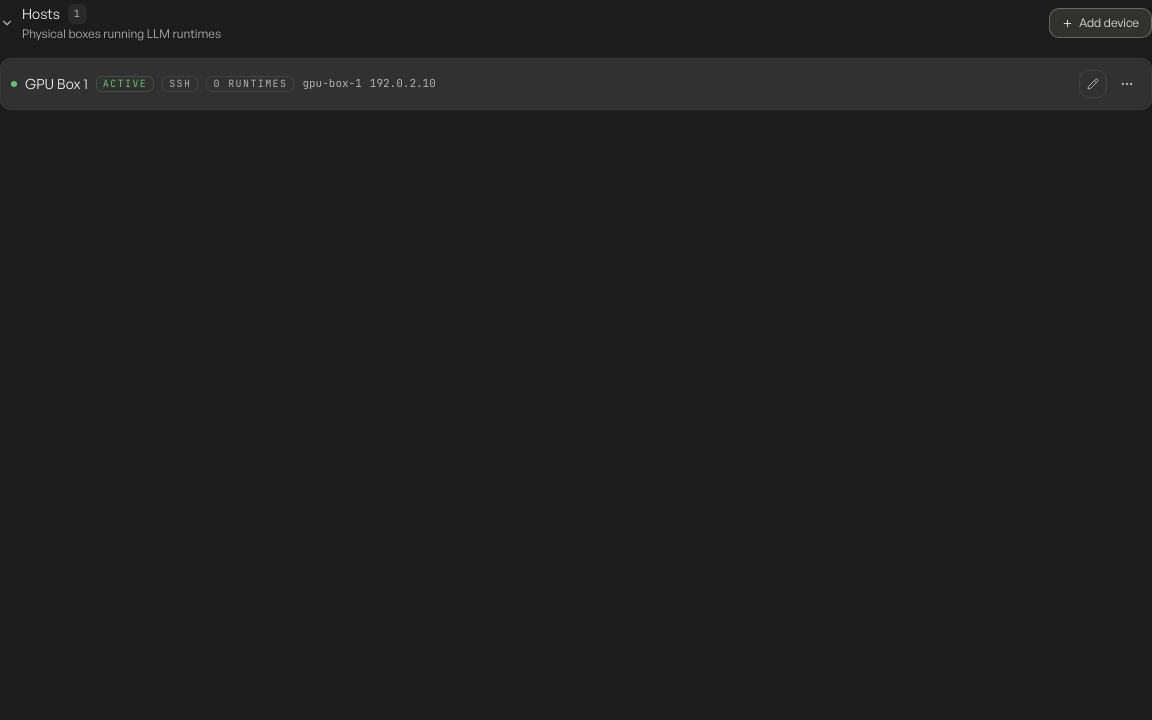
HostsSection › routes: password → onboarding dialog
This screenshot has width=1152, height=720.
What coordinates should you click on to do the following:
click the button "Add device"
I would click on:
 (1100, 23)
Its box is [1049,8,1151,38].
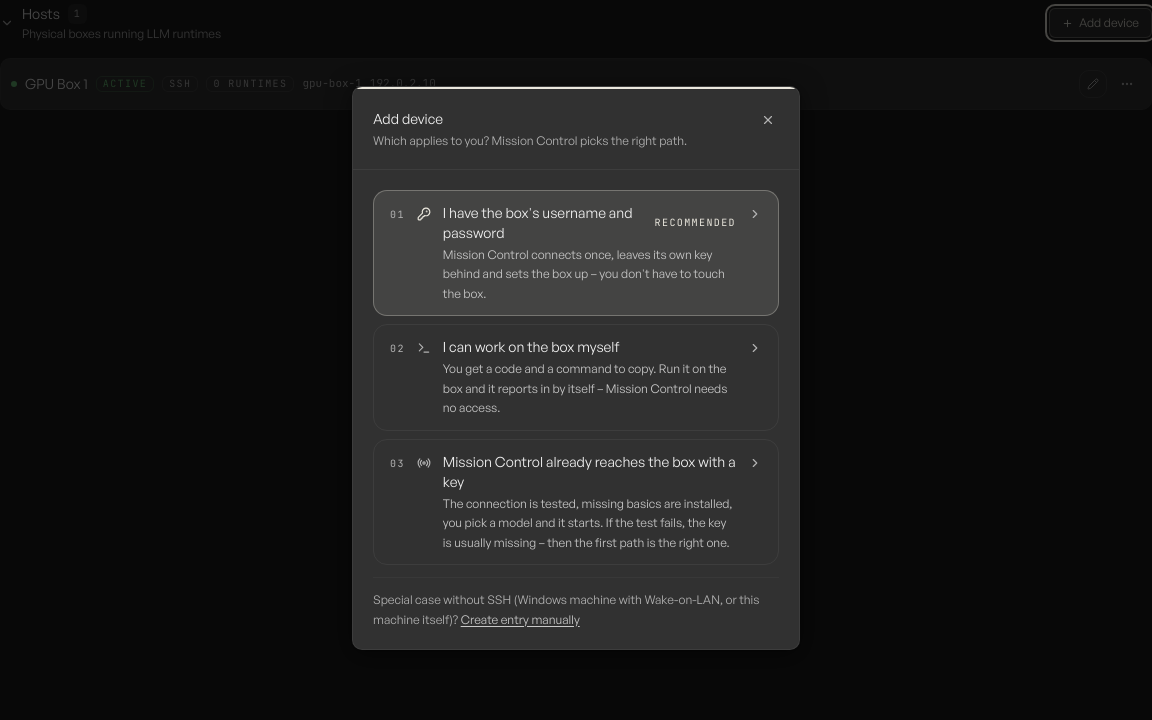
What coordinates should you click on to do the following:
click the button with test id "add-device-onboard"
I would click on:
 (576, 253)
Its box is [373,190,779,316].
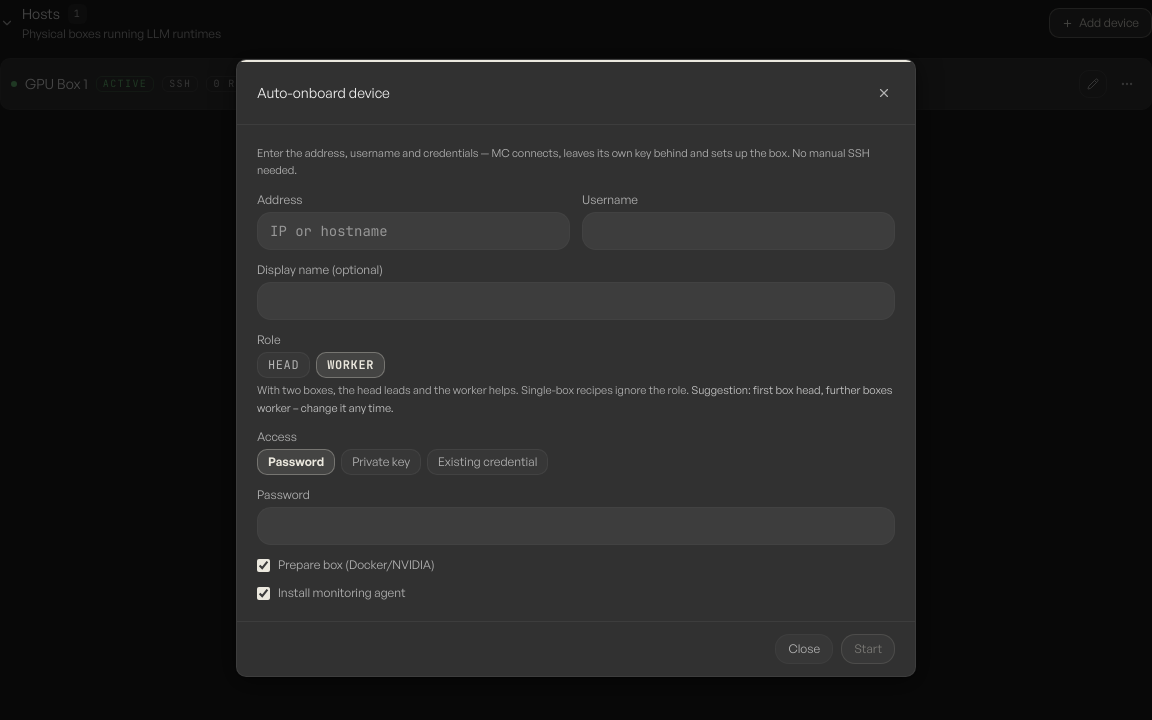
Expected: the field with test id "onboard-address" is shown, [257,212,570,250]
Expected: the button with test id "add-device-onboard" is gone
